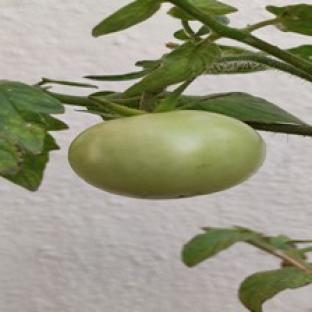Tomato: (69, 111, 264, 199)
